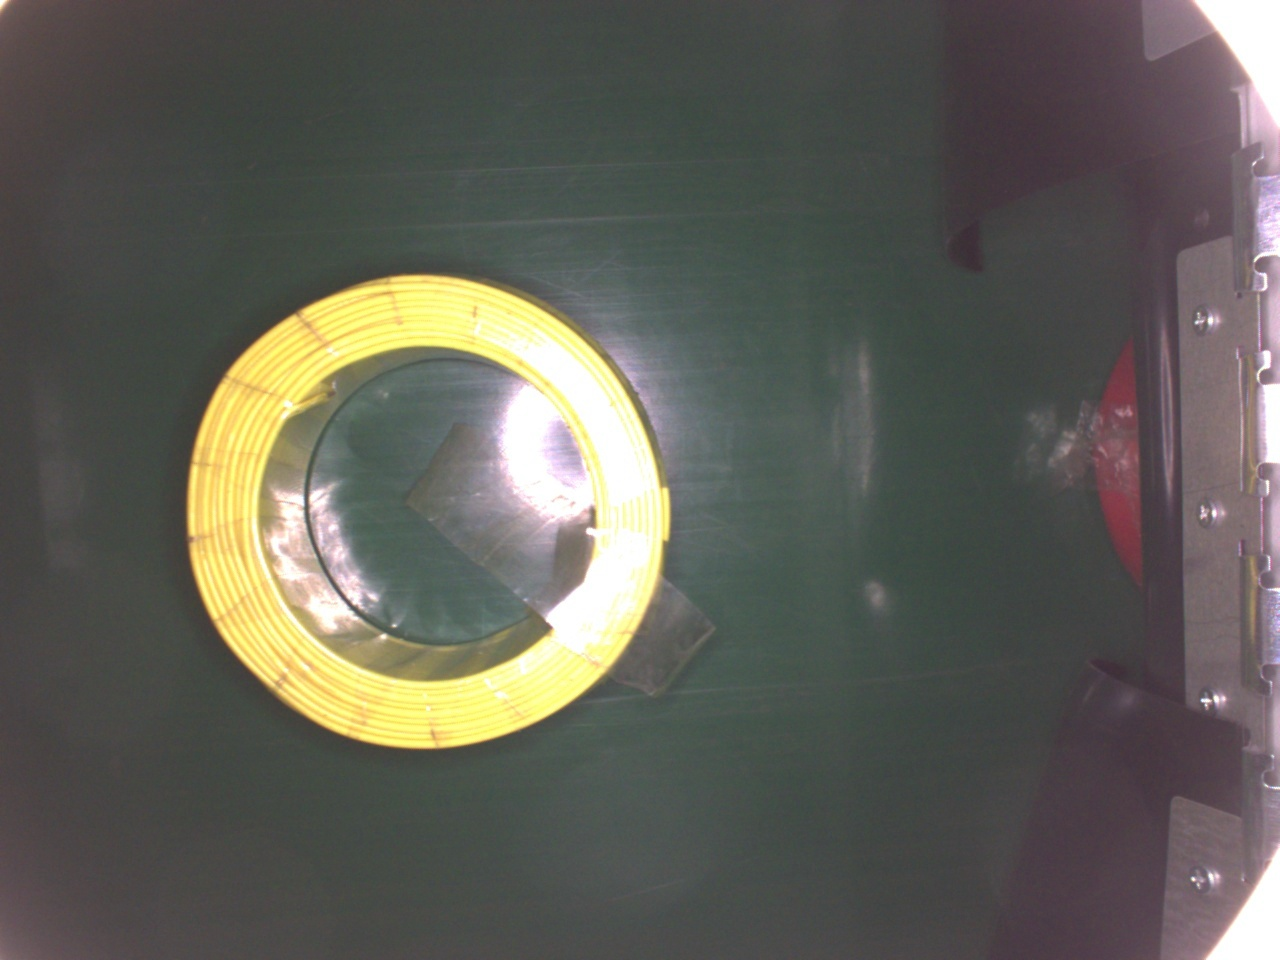yellow: (186, 270, 676, 754)
